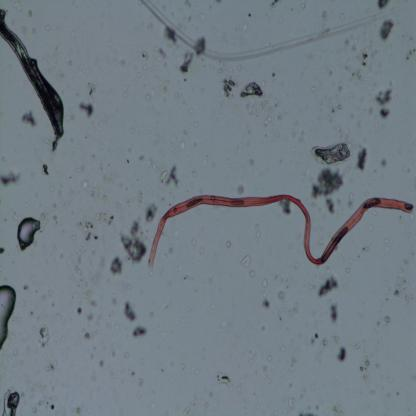Air bubble: (0, 283, 19, 347), (18, 217, 42, 251)
Background material: (142, 0, 397, 68), (310, 167, 344, 215), (215, 74, 267, 100), (123, 220, 149, 264), (79, 212, 113, 240), (253, 98, 285, 126), (0, 383, 24, 415), (390, 264, 410, 302), (318, 93, 342, 121), (35, 381, 57, 411), (74, 281, 97, 309), (317, 271, 339, 298), (359, 345, 375, 381), (277, 292, 299, 317), (0, 168, 25, 186), (377, 89, 393, 117), (161, 164, 181, 186), (354, 145, 368, 173), (178, 50, 194, 74), (122, 300, 138, 324), (38, 320, 52, 347), (380, 19, 396, 41), (336, 344, 351, 367), (193, 36, 209, 57), (162, 26, 178, 47), (90, 184, 107, 203), (145, 200, 159, 223), (344, 66, 364, 82), (328, 302, 342, 324), (108, 257, 124, 275), (308, 332, 332, 344), (216, 372, 234, 388), (131, 325, 149, 339), (278, 200, 293, 216), (22, 114, 39, 128), (80, 102, 96, 116), (240, 253, 252, 270), (87, 81, 98, 98), (404, 49, 416, 63), (262, 294, 271, 310), (361, 50, 369, 68), (40, 163, 51, 176), (380, 0, 391, 12), (45, 361, 56, 373), (157, 47, 168, 59), (260, 276, 268, 289), (382, 314, 392, 324), (76, 304, 84, 316), (288, 395, 294, 410), (85, 330, 93, 341), (237, 183, 245, 194), (380, 157, 388, 167), (0, 246, 7, 256), (351, 42, 357, 52), (226, 240, 232, 248), (272, 1, 277, 10), (323, 10, 328, 18)
Cellulose filter fibre: (0, 12, 62, 138), (314, 137, 354, 169)
Cotton: (147, 187, 416, 269)
